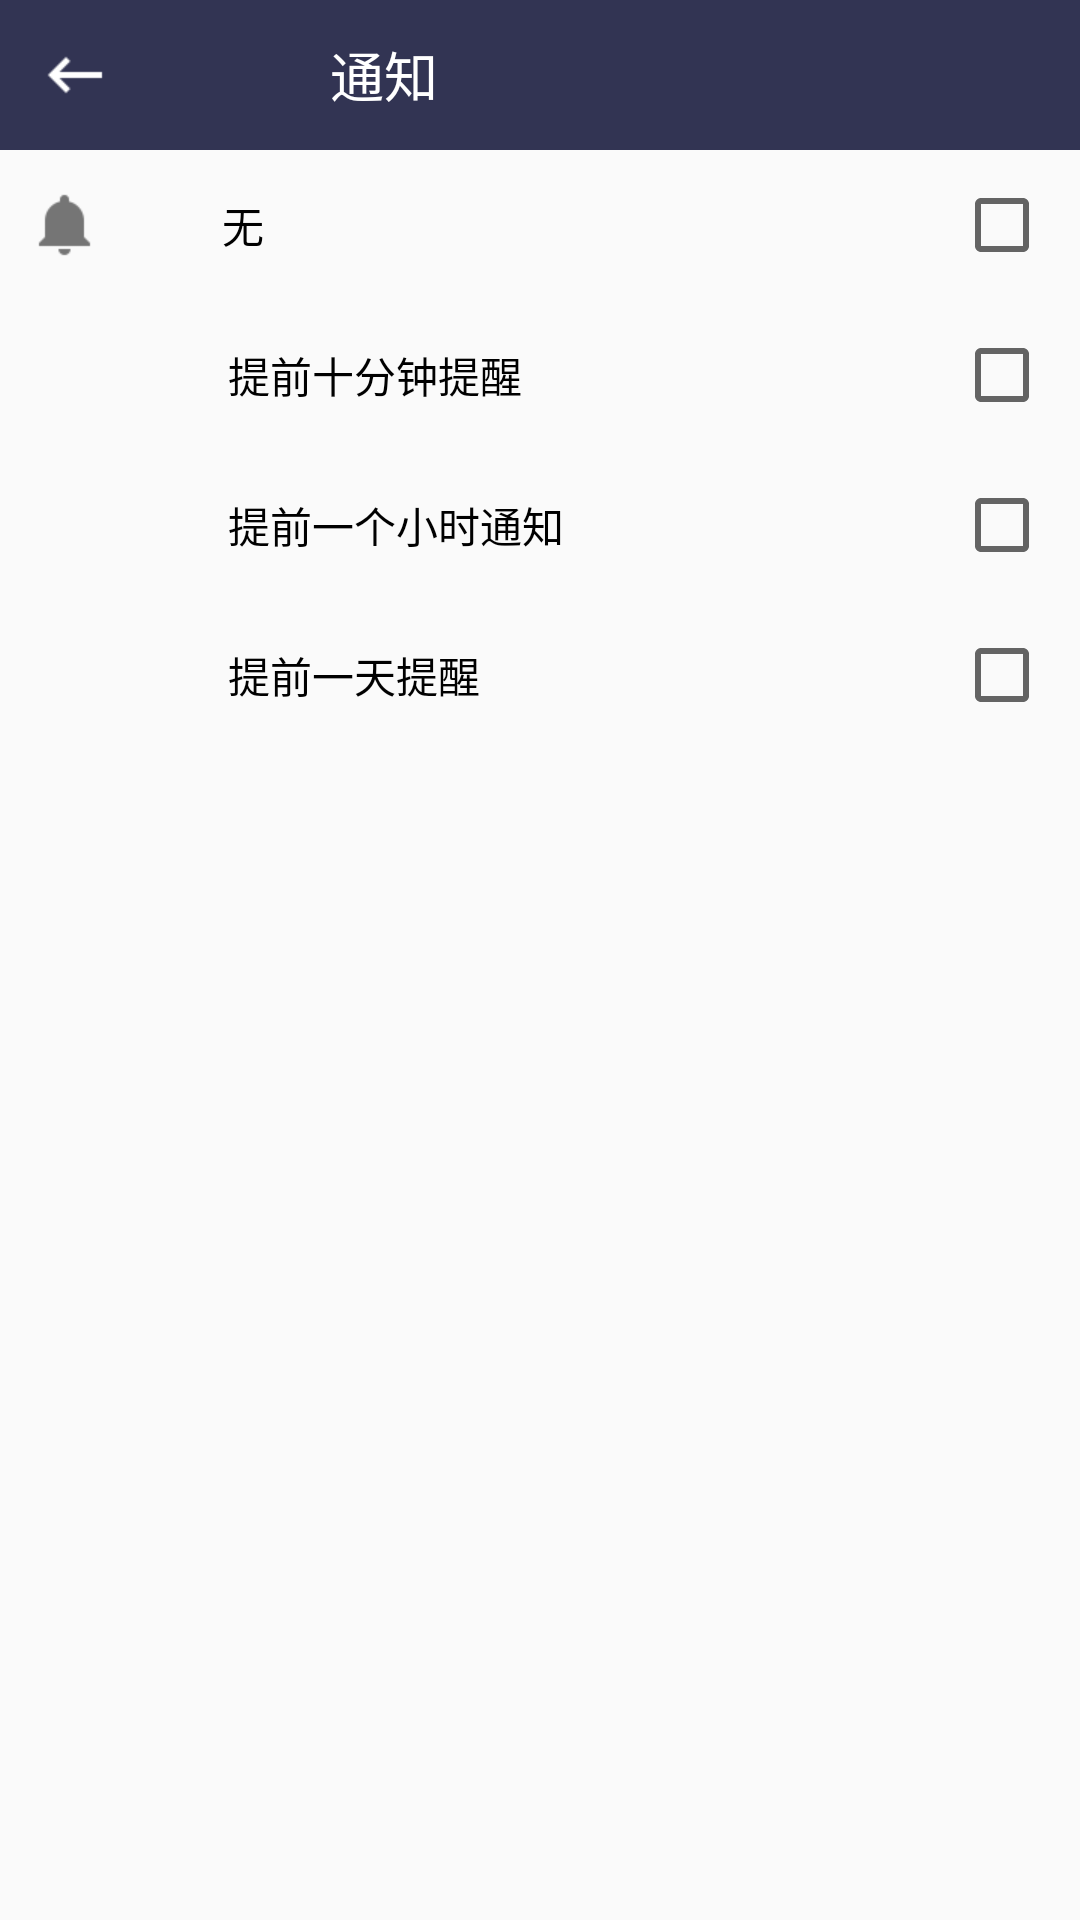

Icon click points for this 1080*1920 phone screenshot, format (x=x, y=y):
keyboard backspace: (x=75, y=75)
notifications: (x=64, y=225)
